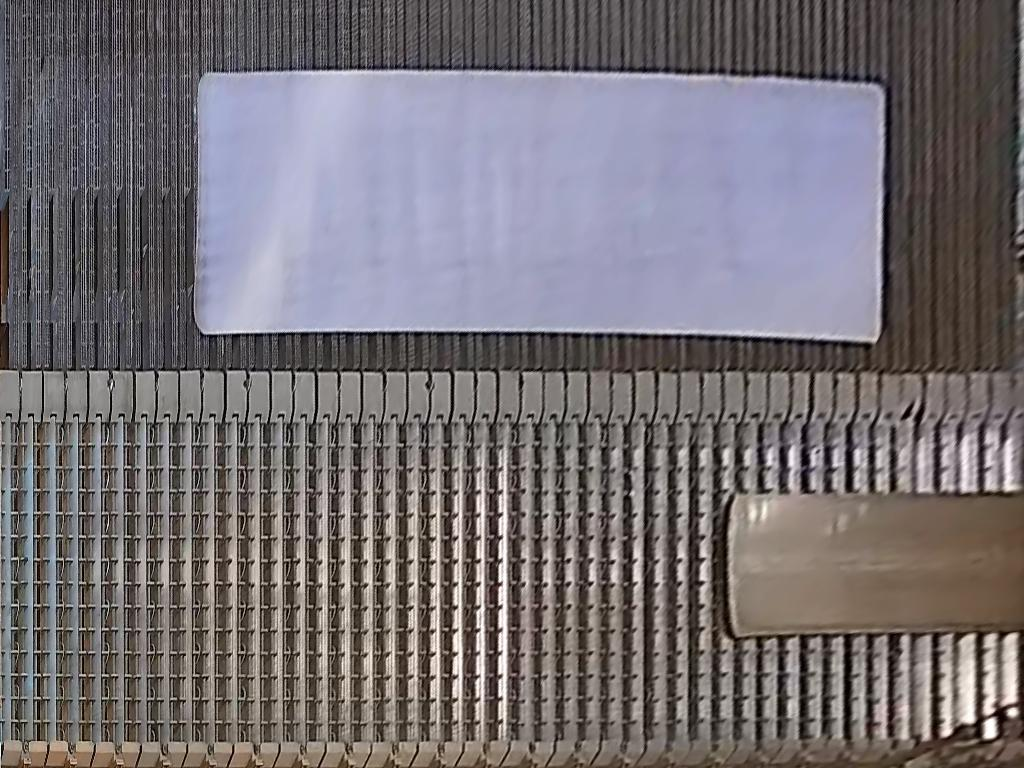steel: (195, 69, 883, 344), (726, 491, 1024, 638)
